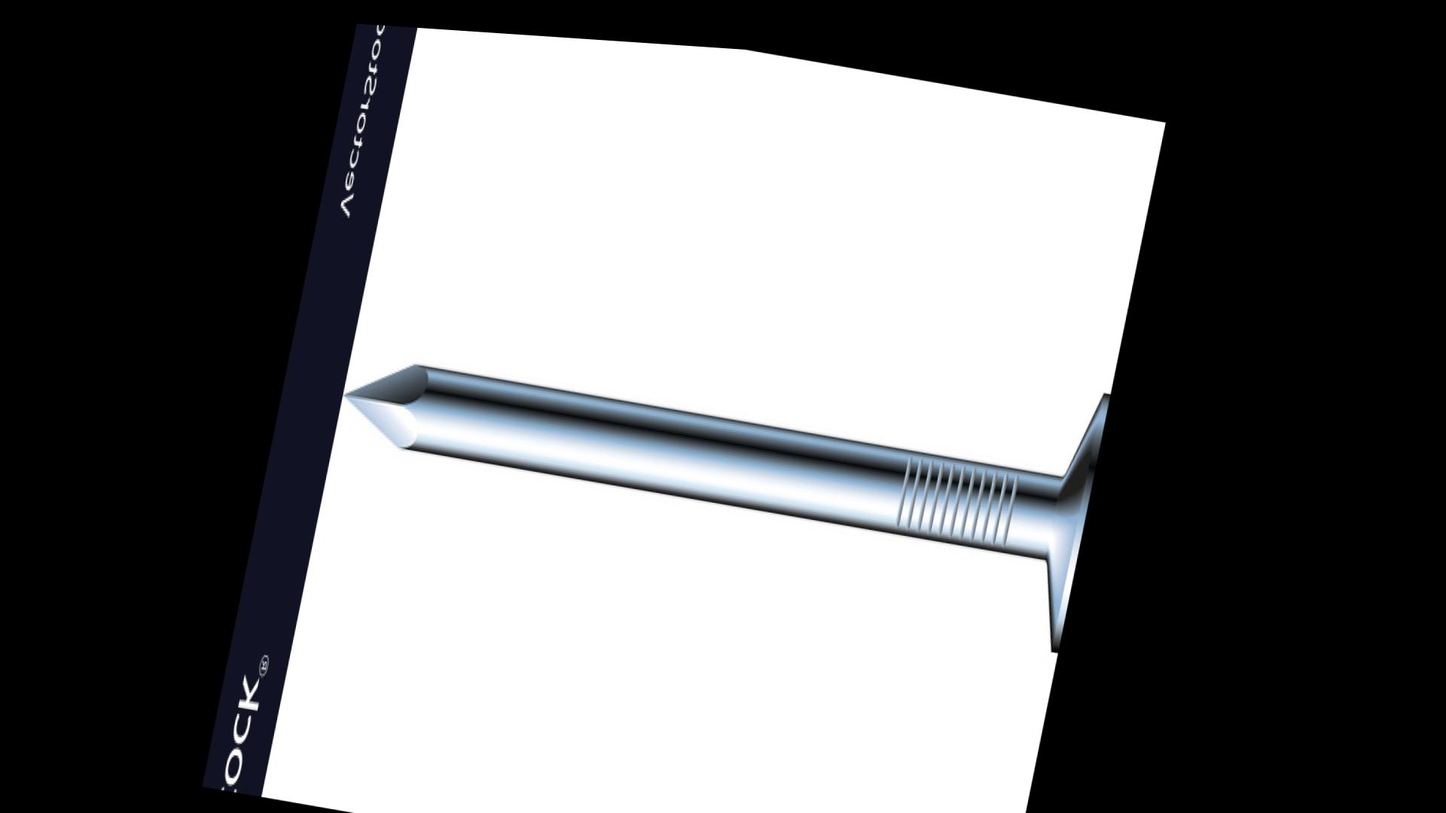nail: (317, 255, 1124, 642)
